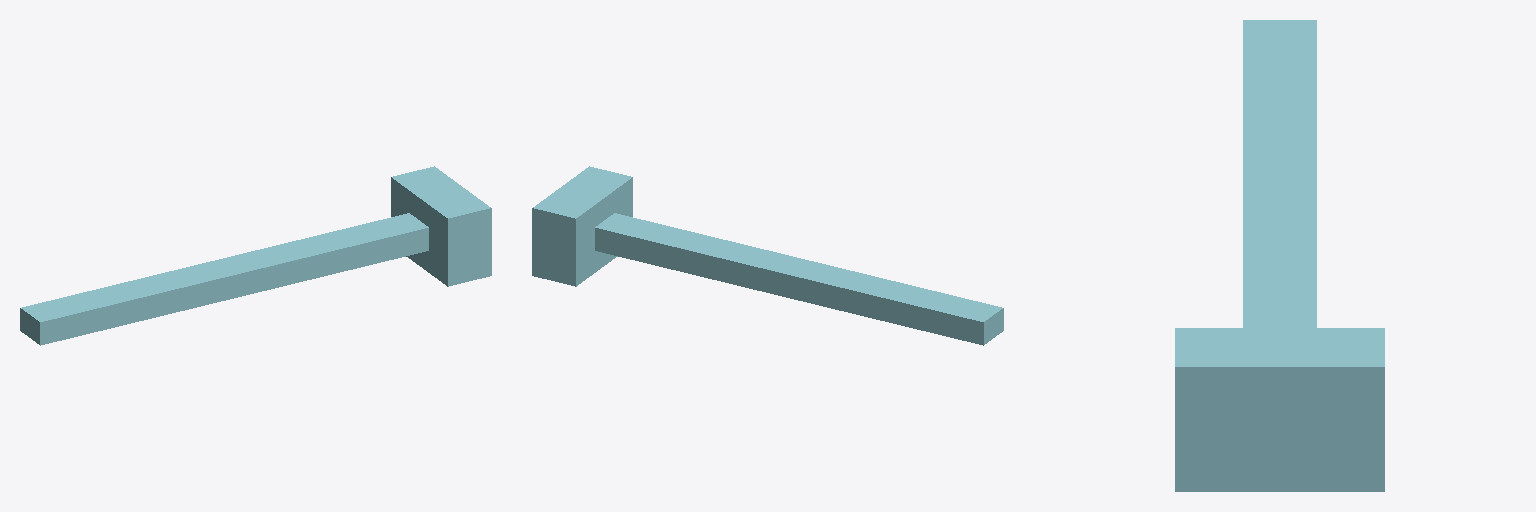
robot.urdf — cuboid_hammer_v012:
<?xml version="1.0"?>
<robot name="cuboid_hammer_v012">

  <link name="cuboid_hammer_v012">
    <!-- Handle -->
    <visual>
      <origin xyz="0 0 0" rpy="0 0 0"/>
      <geometry>
        <box size="0.2780104609902249 0.024678789717306814 0.01587454112533599"/>
      </geometry>
      <material name="material">
        <color rgba="0.639 0.847 0.882 1.0"/>
      </material>
    </visual>
    <collision>
      <origin xyz="0 0 0" rpy="0 0 0"/>
      <geometry>
        <box size="0.2780104609902249 0.024678789717306814 0.01587454112533599"/>
      </geometry>
    </collision>

    <!-- Head -->
    <visual>
      <origin xyz="0.15463290833555238 0 0" rpy="0 0 0"/>
      <geometry>
        <box size="0.03125535568087986 0.07055156304366786 0.0464766605890758"/>
      </geometry>
      <material name="material">
        <color rgba="0.639 0.847 0.882 1.0"/>
      </material>
    </visual>
    <collision>
      <origin xyz="0.15463290833555238 0 0" rpy="0 0 0"/>
      <geometry>
        <box size="0.03125535568087986 0.07055156304366786 0.0464766605890758"/>
      </geometry>
    </collision>

    <inertial>
      <density value="400.0"/>
    </inertial>
  </link>

</robot>

--- Facts derived from the render (not from the file) ---
3 views of the same robot in one strip: view 1: azimuth 30°, elevation 25°; view 2: azimuth 150°, elevation 25°; view 3: azimuth 270°, elevation 25° (orthographic).
Model cuboid_hammer_v012 with 1 links and 0 joints (none), rooted at cuboid_hammer_v012, posed all joints at 0.
Visible links, largest first — view 1: cuboid_hammer_v012; view 2: cuboid_hammer_v012; view 3: cuboid_hammer_v012.
Link boxes in pixels (left/top/right/bottom): cuboid_hammer_v012: left=20, top=166, right=491, bottom=345; cuboid_hammer_v012: left=532, top=166, right=1003, bottom=345; cuboid_hammer_v012: left=1175, top=20, right=1384, bottom=491.
Bounding box of the posed robot: 0.3093 × 0.0706 × 0.0465 m (x, y, z).
Geometry: primitives only (box / cylinder / sphere), no mesh files.
